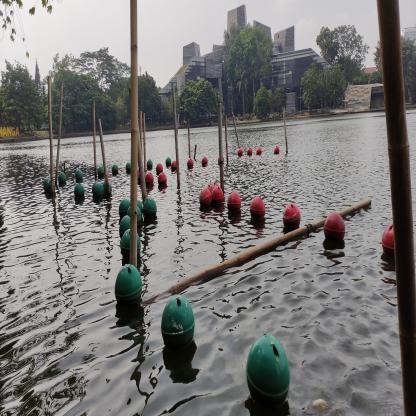green_buoy: (244, 333, 290, 407), (160, 292, 197, 356), (114, 263, 143, 307), (120, 229, 142, 259), (143, 195, 157, 218), (127, 205, 142, 226), (118, 215, 130, 240), (118, 200, 131, 218), (74, 182, 85, 199), (94, 183, 104, 200), (136, 200, 144, 218), (46, 181, 56, 195), (102, 182, 112, 196), (90, 180, 99, 194), (75, 168, 83, 181), (58, 172, 66, 184), (43, 178, 51, 190), (146, 159, 154, 169), (111, 164, 119, 174), (165, 156, 172, 167), (98, 165, 104, 177), (125, 162, 131, 173)
red_buoy: (323, 212, 346, 242), (282, 202, 301, 228), (381, 224, 396, 256), (249, 196, 266, 220), (227, 190, 241, 212), (199, 187, 212, 208), (212, 186, 224, 205), (145, 172, 155, 186), (158, 172, 167, 187), (209, 179, 219, 191), (138, 172, 146, 184), (206, 184, 214, 196), (187, 158, 194, 170), (156, 163, 163, 174), (171, 160, 177, 172), (202, 156, 208, 166), (218, 155, 224, 165), (256, 146, 262, 156), (274, 145, 280, 154), (237, 148, 243, 156), (247, 147, 252, 156)
